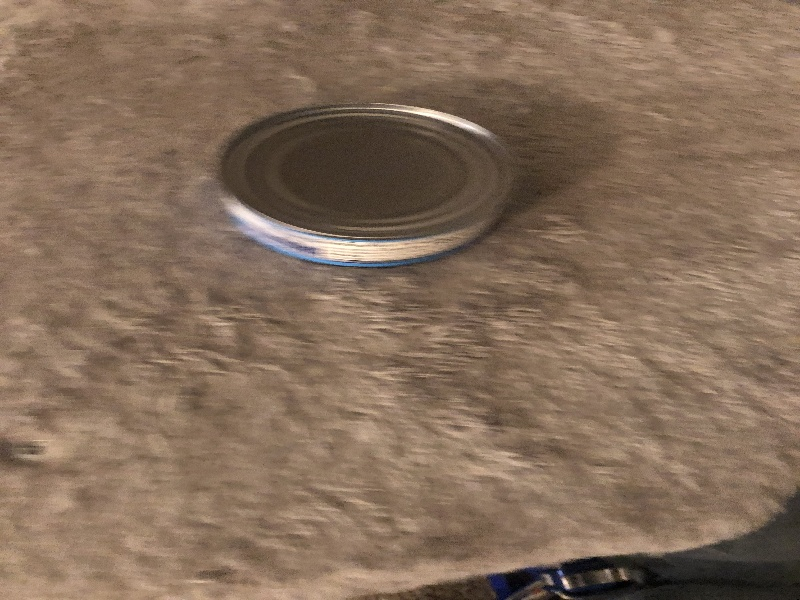metal: (213, 95, 523, 272)
